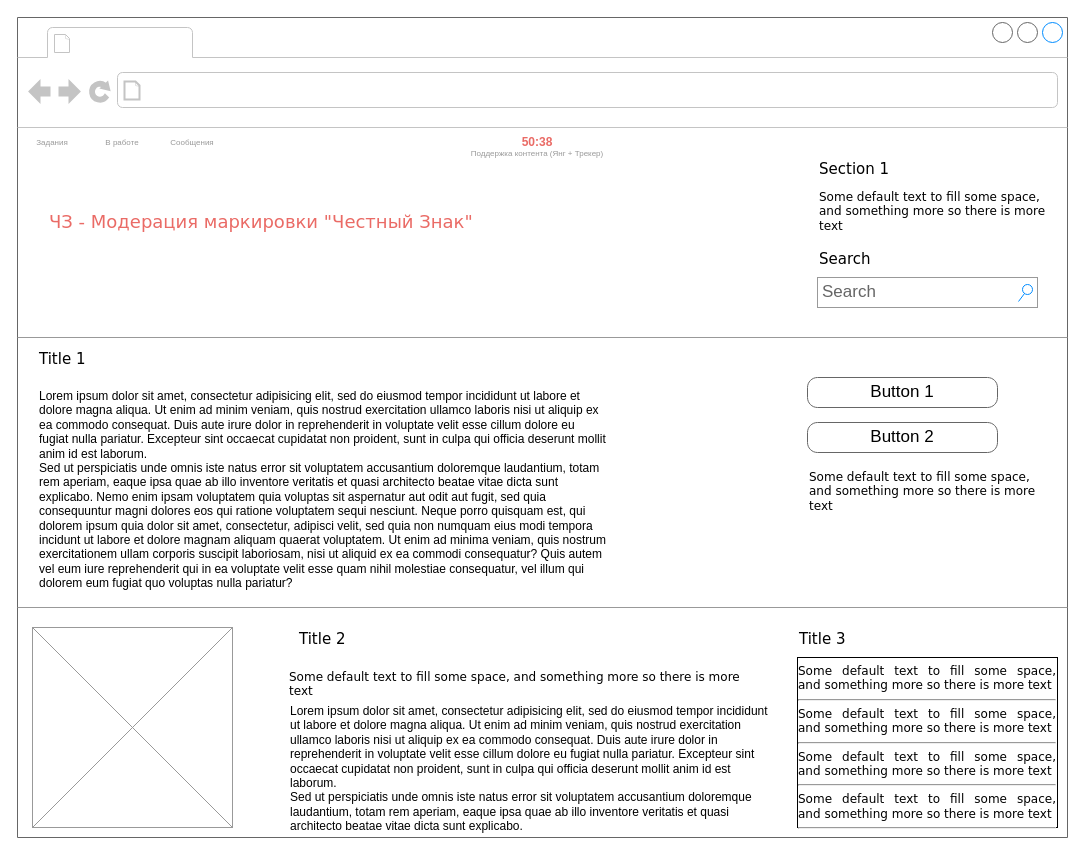
The diagram is 1085 pixels wide and 855 high, and some of its shapes have lost their labels. The shapes that lost their labels are listed below. From the top down, each one's centre as x and y in pixels, then its label:
the point at 132,42: Яндекс Янг
the point at 272,90: https://yang.yandex-team.ru
